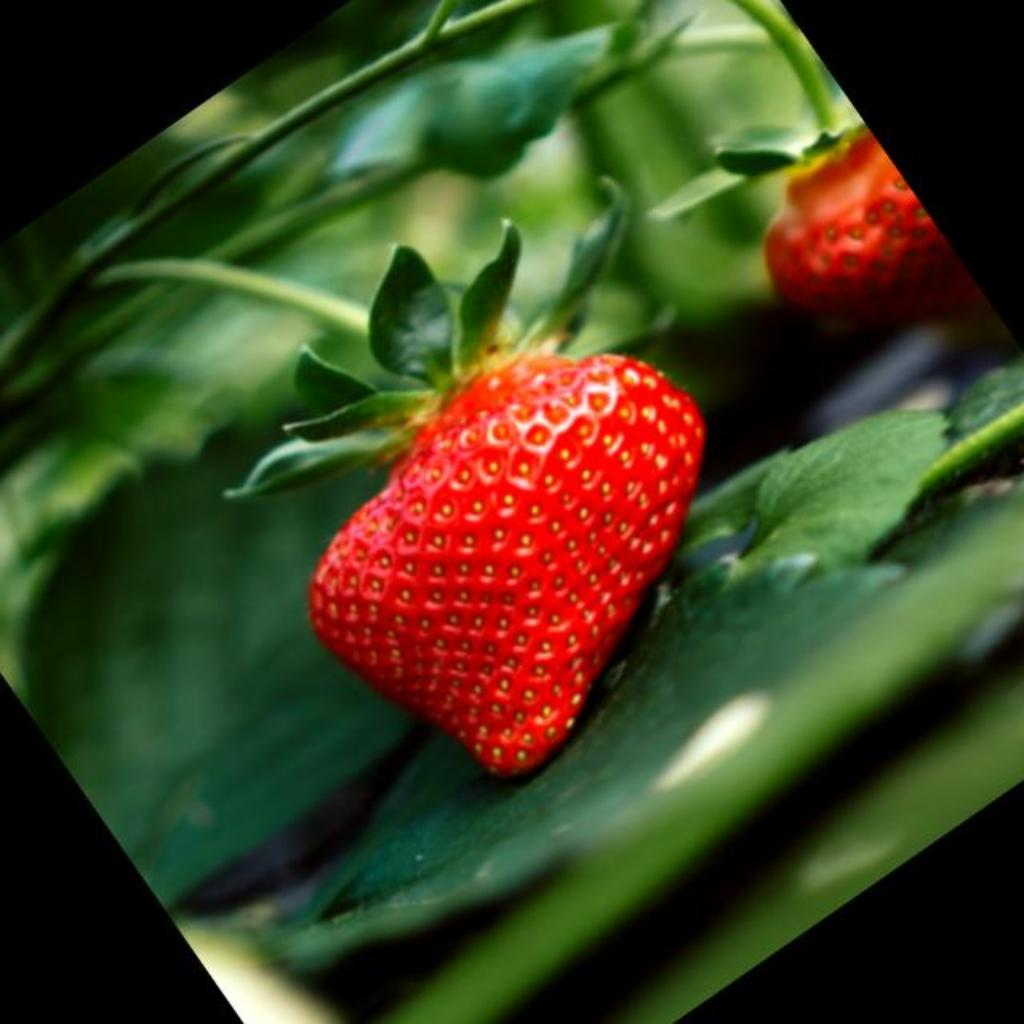strawberry: (310, 356, 704, 775), (766, 130, 980, 323)
